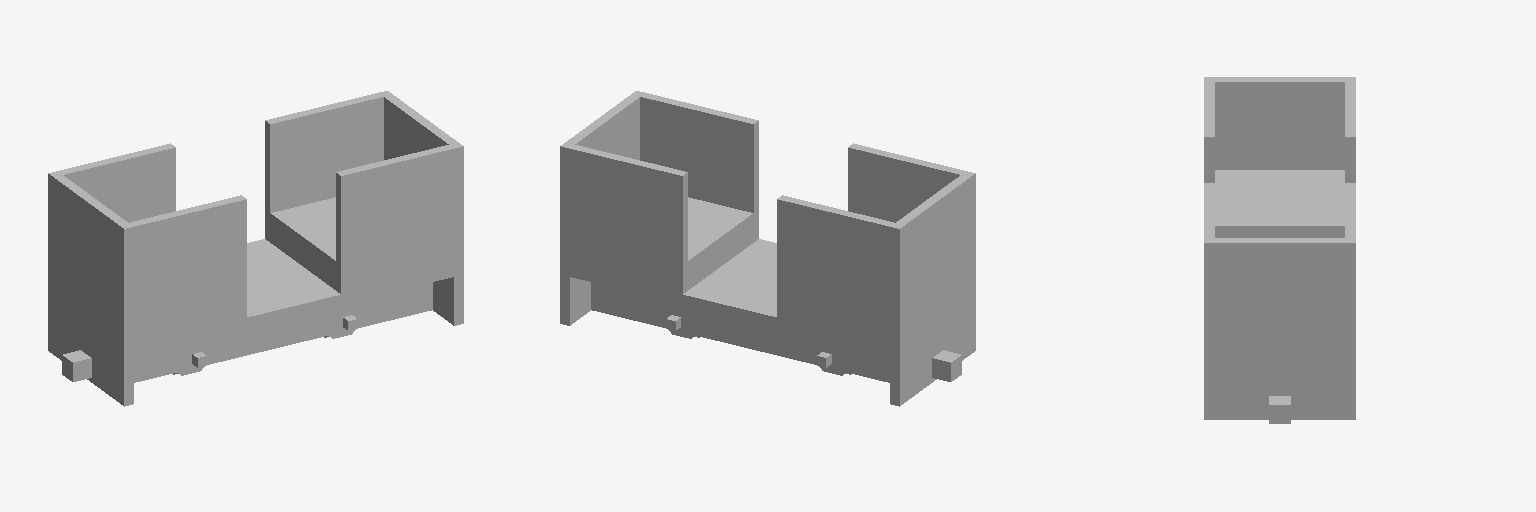
Rendered from z_kitsune_pixie_coach.obj.
The picture shows the model from 3 angles: view 1: azimuth 30°, elevation 25°; view 2: azimuth 150°, elevation 25°; view 3: azimuth 270°, elevation 25°; orthographic projection.
Visible parts, largest first — view 1: FRAME_Cube.012, SEAT_2_Cube.005, FRAME.couple_Cube.016; view 2: FRAME_Cube.012, SEAT_2_Cube.005, FRAME.couple_Cube.016; view 3: FRAME_Cube.012, SEAT_1_Cube.004, FRAME.couple.001_Cube.011.
Part boxes in pixels (x1,y1,x2,y2): FRAME_Cube.012: (48,91,463,406); SEAT_2_Cube.005: (271,197,335,260); FRAME.couple_Cube.016: (62,350,91,381); FRAME_Cube.012: (560,91,975,406); SEAT_2_Cube.005: (688,197,752,260); FRAME.couple_Cube.016: (932,350,961,381); FRAME_Cube.012: (1204,77,1355,419); SEAT_1_Cube.004: (1215,170,1344,225); FRAME.couple.001_Cube.011: (1269,396,1290,423).
Bounding box in the file's own units: 2.5 × 1.22 × 0.875.